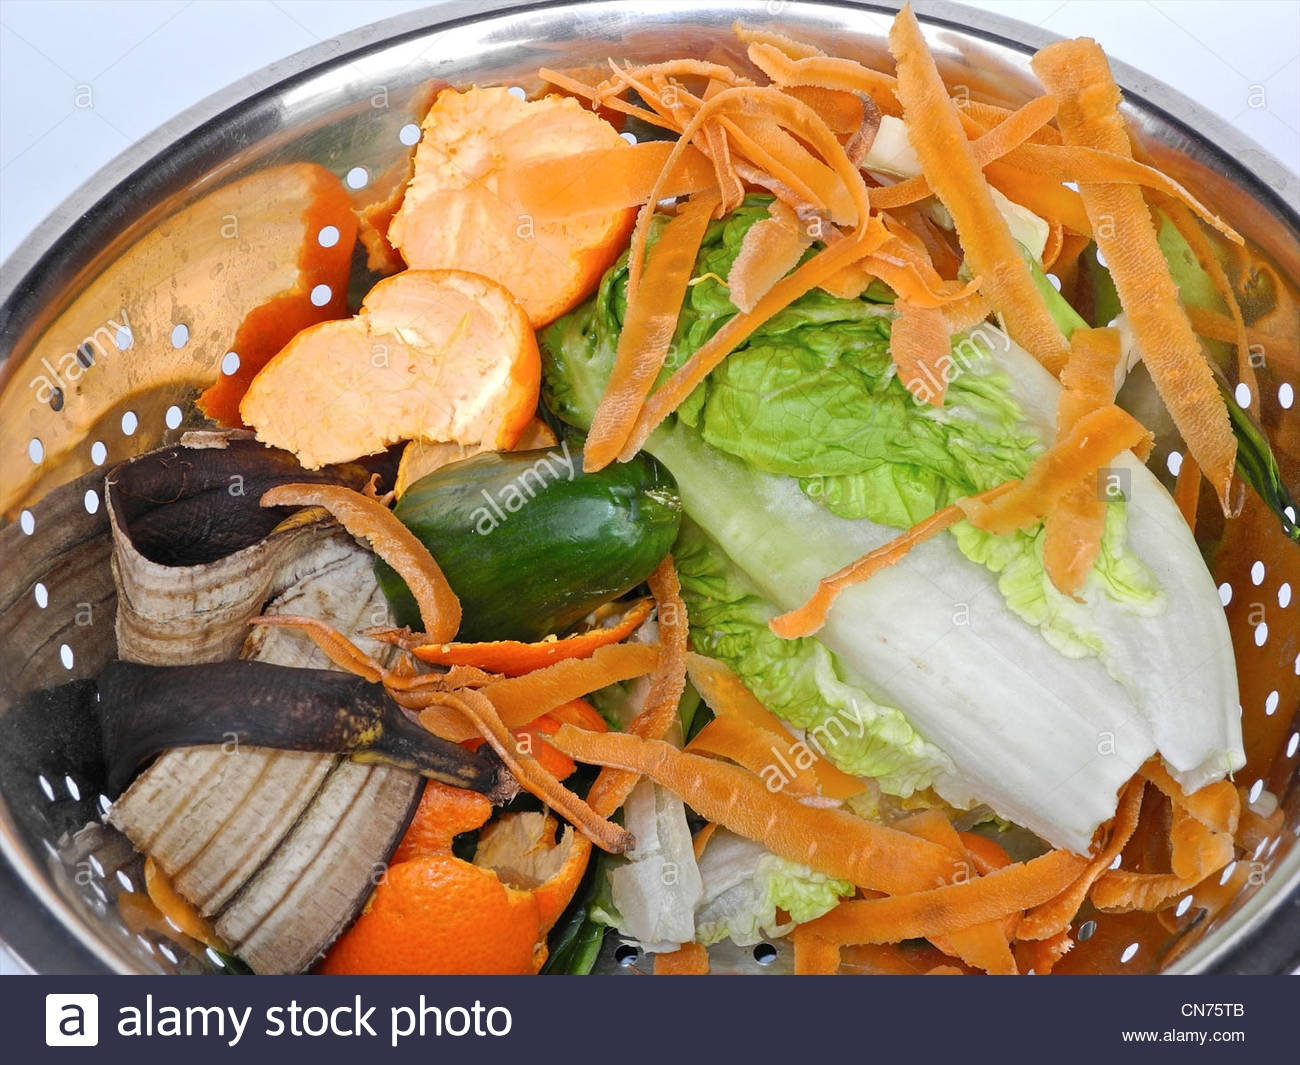kitchen_waste: (524, 170, 1156, 656), (60, 433, 460, 992), (1, 138, 368, 487), (1020, 22, 1260, 520), (874, 5, 1087, 453), (546, 707, 997, 916), (14, 665, 518, 846), (384, 79, 693, 334), (226, 253, 546, 493), (385, 415, 696, 655), (789, 833, 1091, 978), (257, 473, 477, 648)
